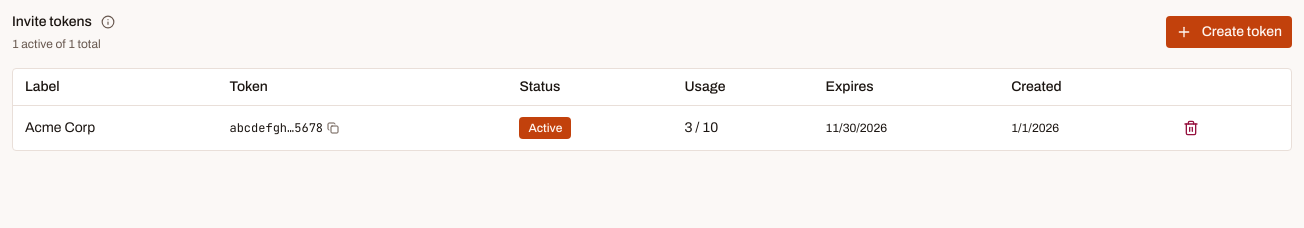
Test: AgentInviteTokensTab › error handling › shows error banner when revoke DELETE fails with APIClientError
Expected: the text "active" is shown, [519,117,572,139]
Click the button named "Revoke token Acme Corp".
click(1191, 128)  # box [1173,114,1209,142]
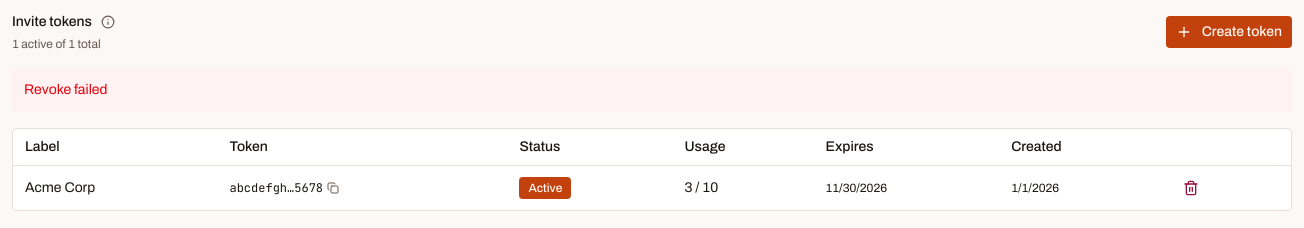
Expected: the text "Revoke failed" is shown, [12,68,1292,112]
